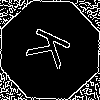K: (25, 25, 81, 76)
